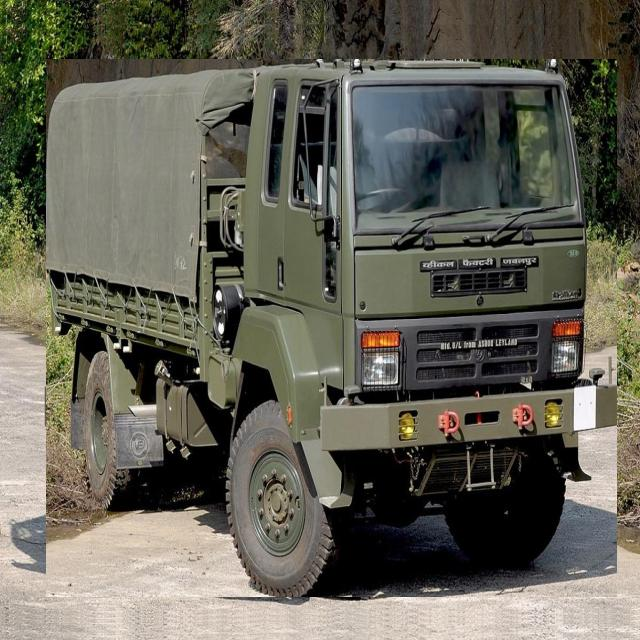truck: (46, 60, 616, 597)
